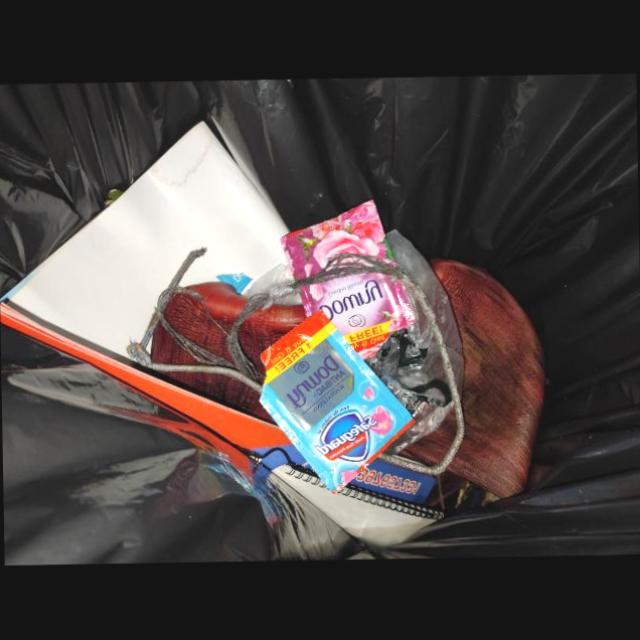carton: (0, 85, 293, 450), (248, 450, 447, 549)
goi_nhua_nho: (258, 309, 413, 497), (280, 198, 405, 361)
tui_ni_long: (365, 228, 464, 454)
vo_rau_cu: (429, 259, 546, 501), (150, 282, 275, 424), (237, 304, 307, 377)
